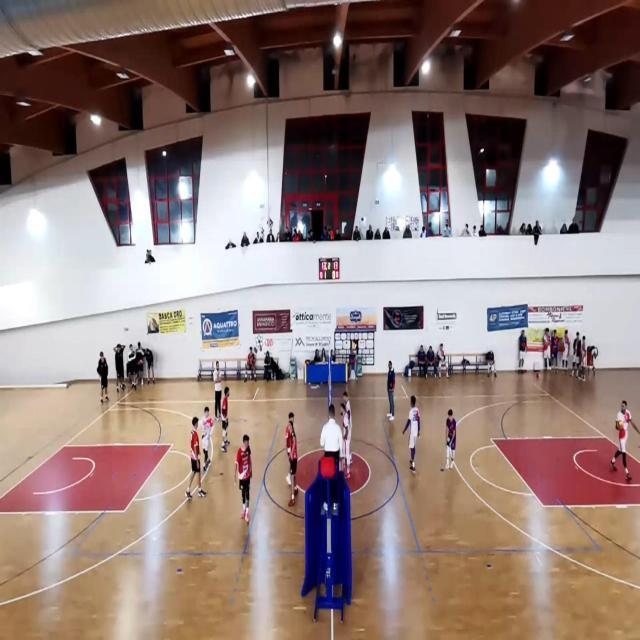volleyball: (616, 419, 624, 428)
